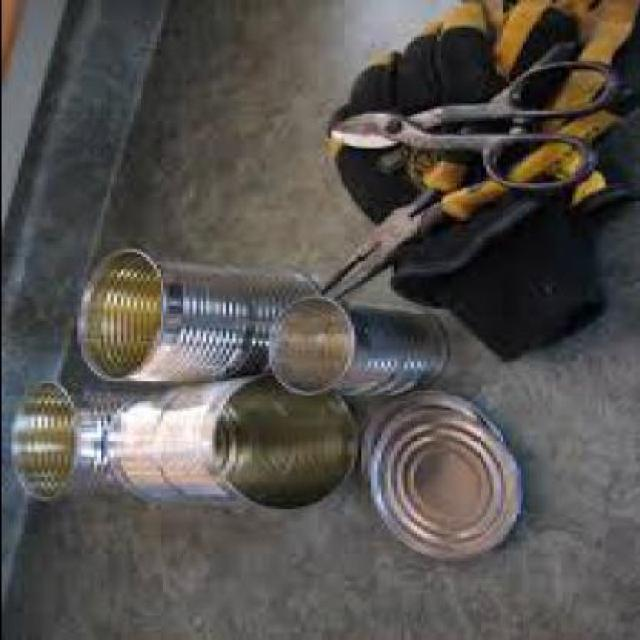METAL: (95, 373, 354, 509), (72, 242, 320, 381), (370, 410, 515, 553), (261, 294, 445, 395), (353, 385, 501, 497), (6, 378, 132, 498), (320, 77, 432, 158), (320, 198, 412, 296)
